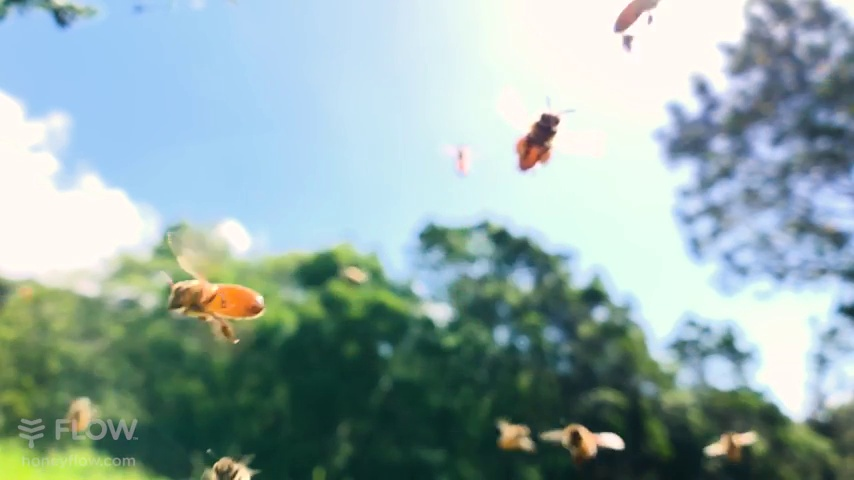insect: (158, 273, 259, 342), (510, 93, 572, 171), (538, 420, 617, 463), (612, 0, 658, 42), (203, 445, 259, 478), (700, 429, 753, 462), (492, 417, 536, 453)
